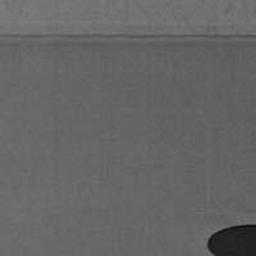Punching: (206, 224, 256, 256)
